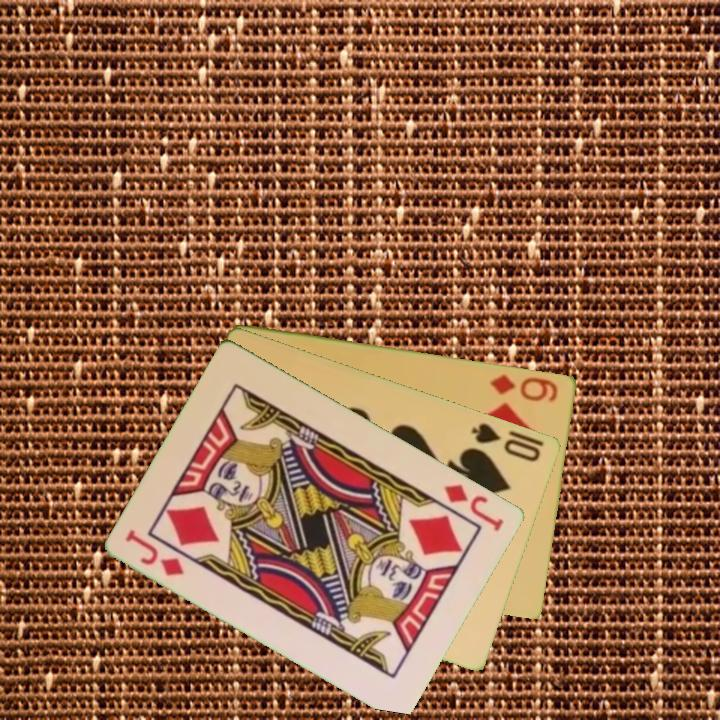10s: (468, 418, 544, 465)
6d: (487, 370, 561, 405)
Jd: (441, 480, 508, 534), (122, 525, 188, 579)
